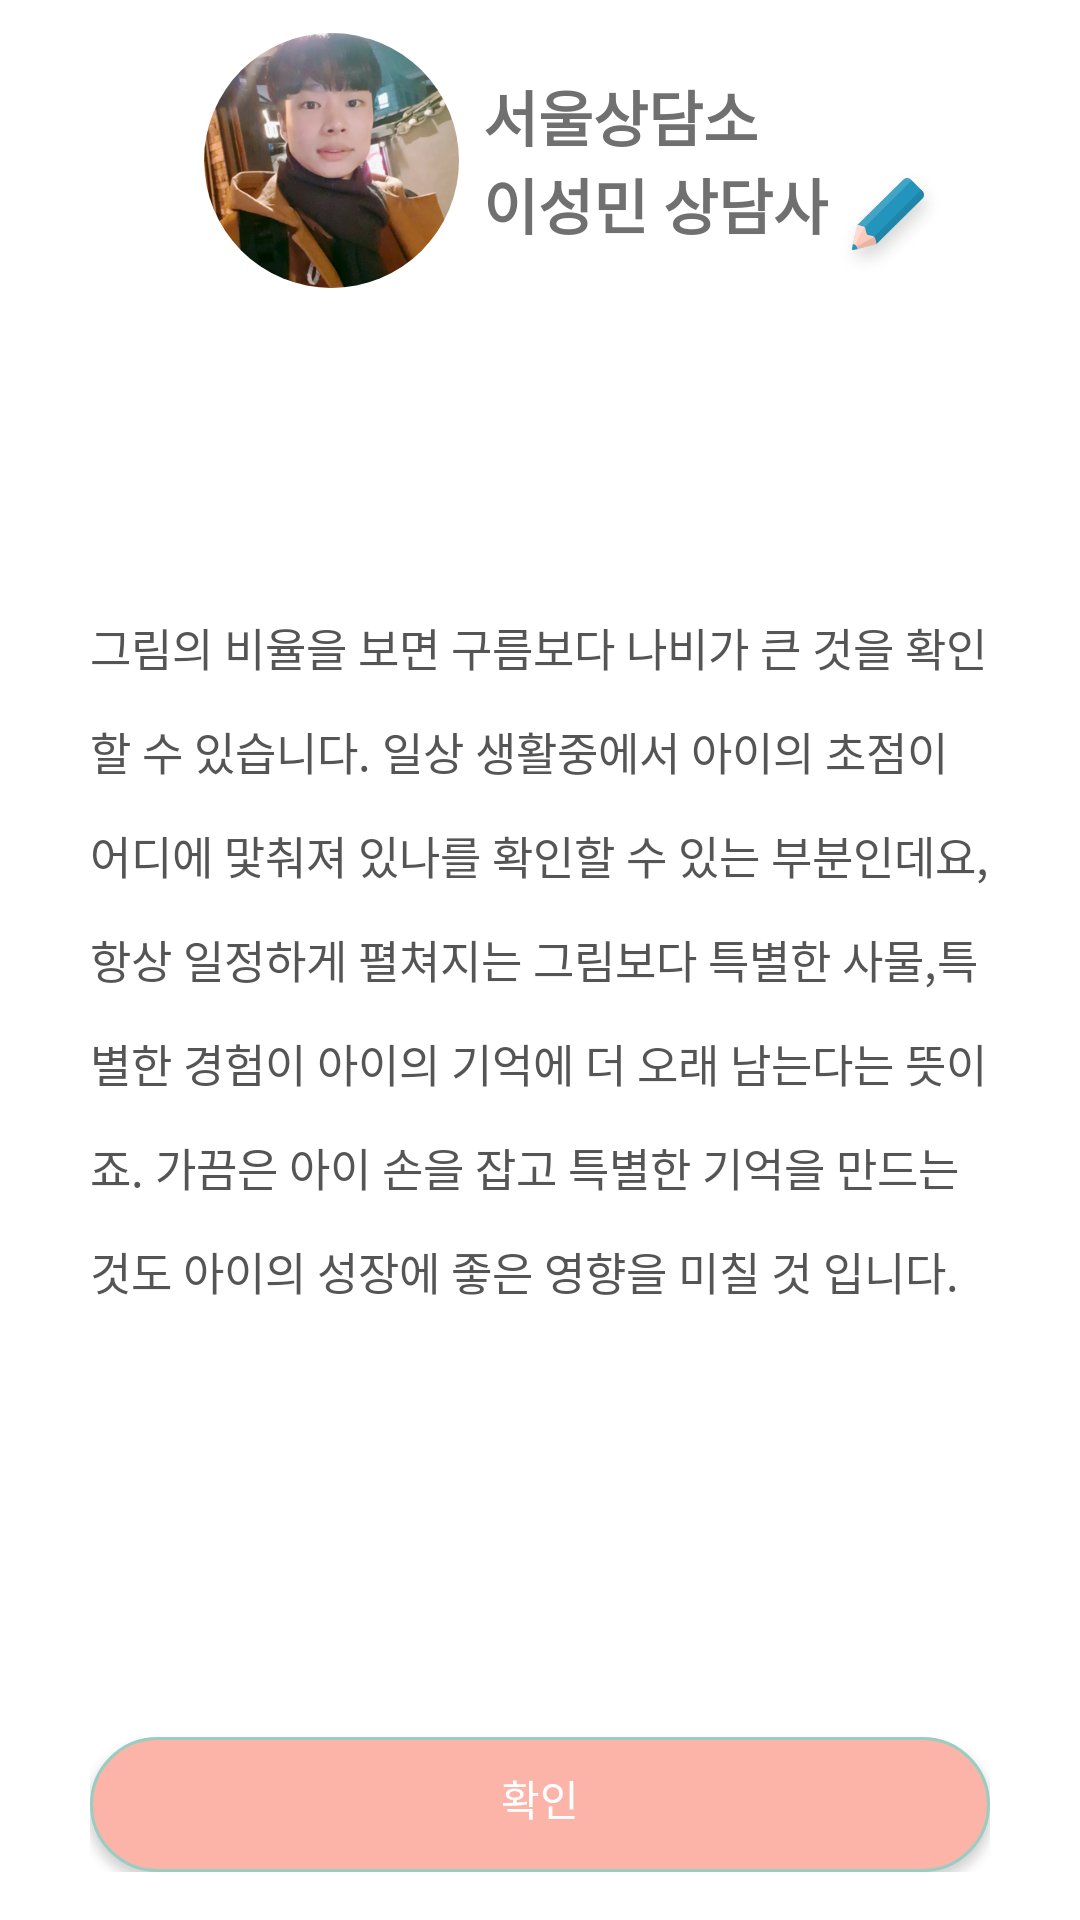

Screen size 1080 x 1920. Icon name, then its box in pixels as (x1, y1, x2, y2):
pencil: (852, 178, 924, 252)
